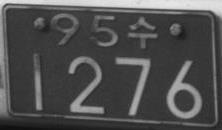1: (21, 53, 55, 109)
2: (67, 54, 105, 114)
5: (89, 13, 120, 48)
6: (165, 59, 203, 118)
7: (114, 55, 151, 115)
9: (50, 12, 79, 46)
수: (128, 15, 158, 49)
